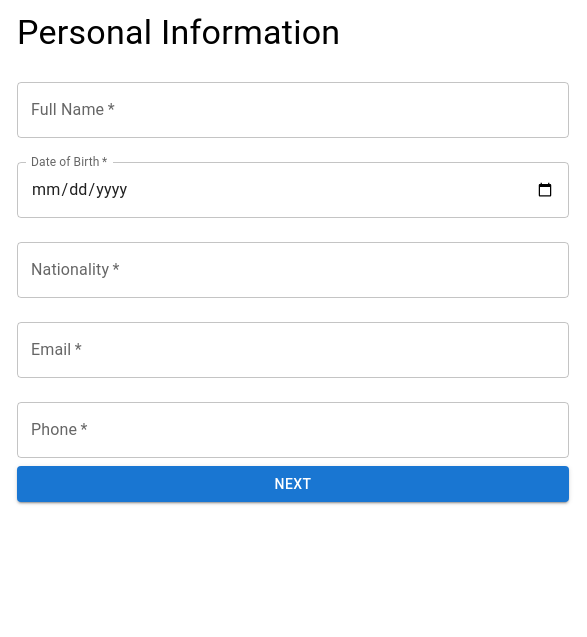
Test: PersonalInfoForm › displays error messages for empty required fields
This screenshot has width=587, height=637.
Click the button "Next": click(293, 484) [17,466,569,502]
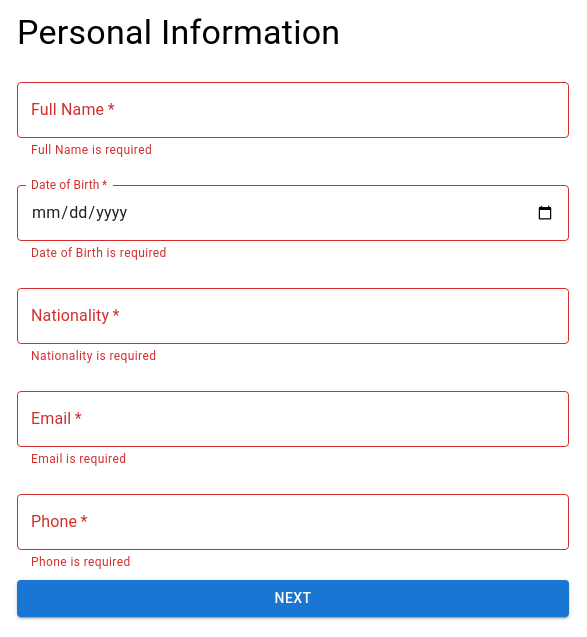
Now the text "Full Name is required" is shown, box [31,143,152,157]
Now the text "Date of Birth is required" is shown, box [31,246,167,260]
Now the text "Nationality is required" is shown, box [31,349,156,363]
